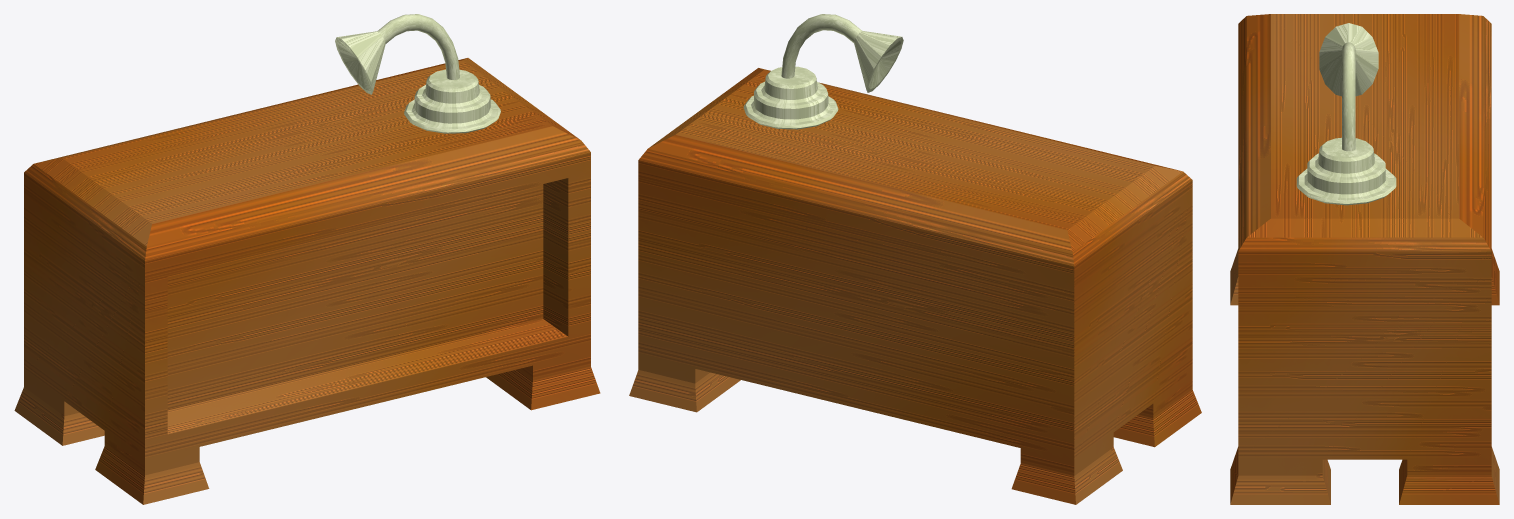
File: teachers_desk.FBX
3 renders of one model, left to right at view 1: azimuth 30°, elevation 25°; view 2: azimuth 150°, elevation 25°; view 3: azimuth 270°, elevation 25°, orthographic. The views are drawn at different scales.
Visible parts, largest first — view 1: Box009, Cylinder003, Cylinder004; view 2: Box009, Cylinder003, Cylinder004; view 3: Box009, Cylinder003, Cylinder004.
Part boxes in pixels (bbox=[...]): Box009: bbox=[14, 58, 600, 504]; Cylinder003: bbox=[404, 69, 500, 133]; Cylinder004: bbox=[335, 14, 459, 94]; Box009: bbox=[629, 68, 1201, 504]; Cylinder003: bbox=[743, 66, 838, 129]; Cylinder004: bbox=[781, 14, 903, 92]; Box009: bbox=[1230, 14, 1499, 504]; Cylinder003: bbox=[1296, 137, 1396, 205]; Cylinder004: bbox=[1319, 23, 1378, 151].
Bounding box in the file's own units: 68.08 × 52.72 × 33.2.
